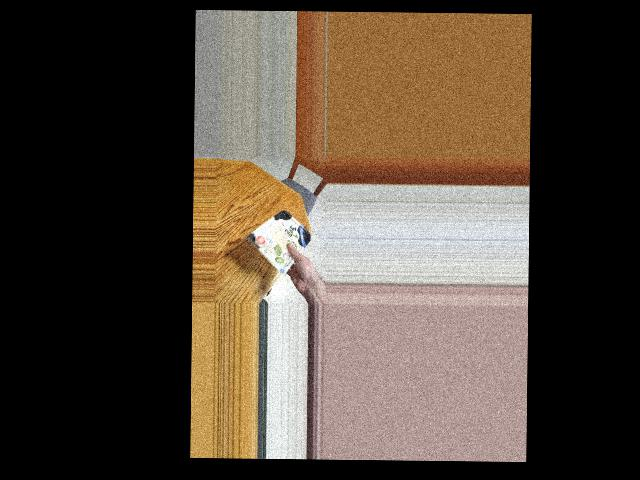cheese: (255, 215, 311, 263)
